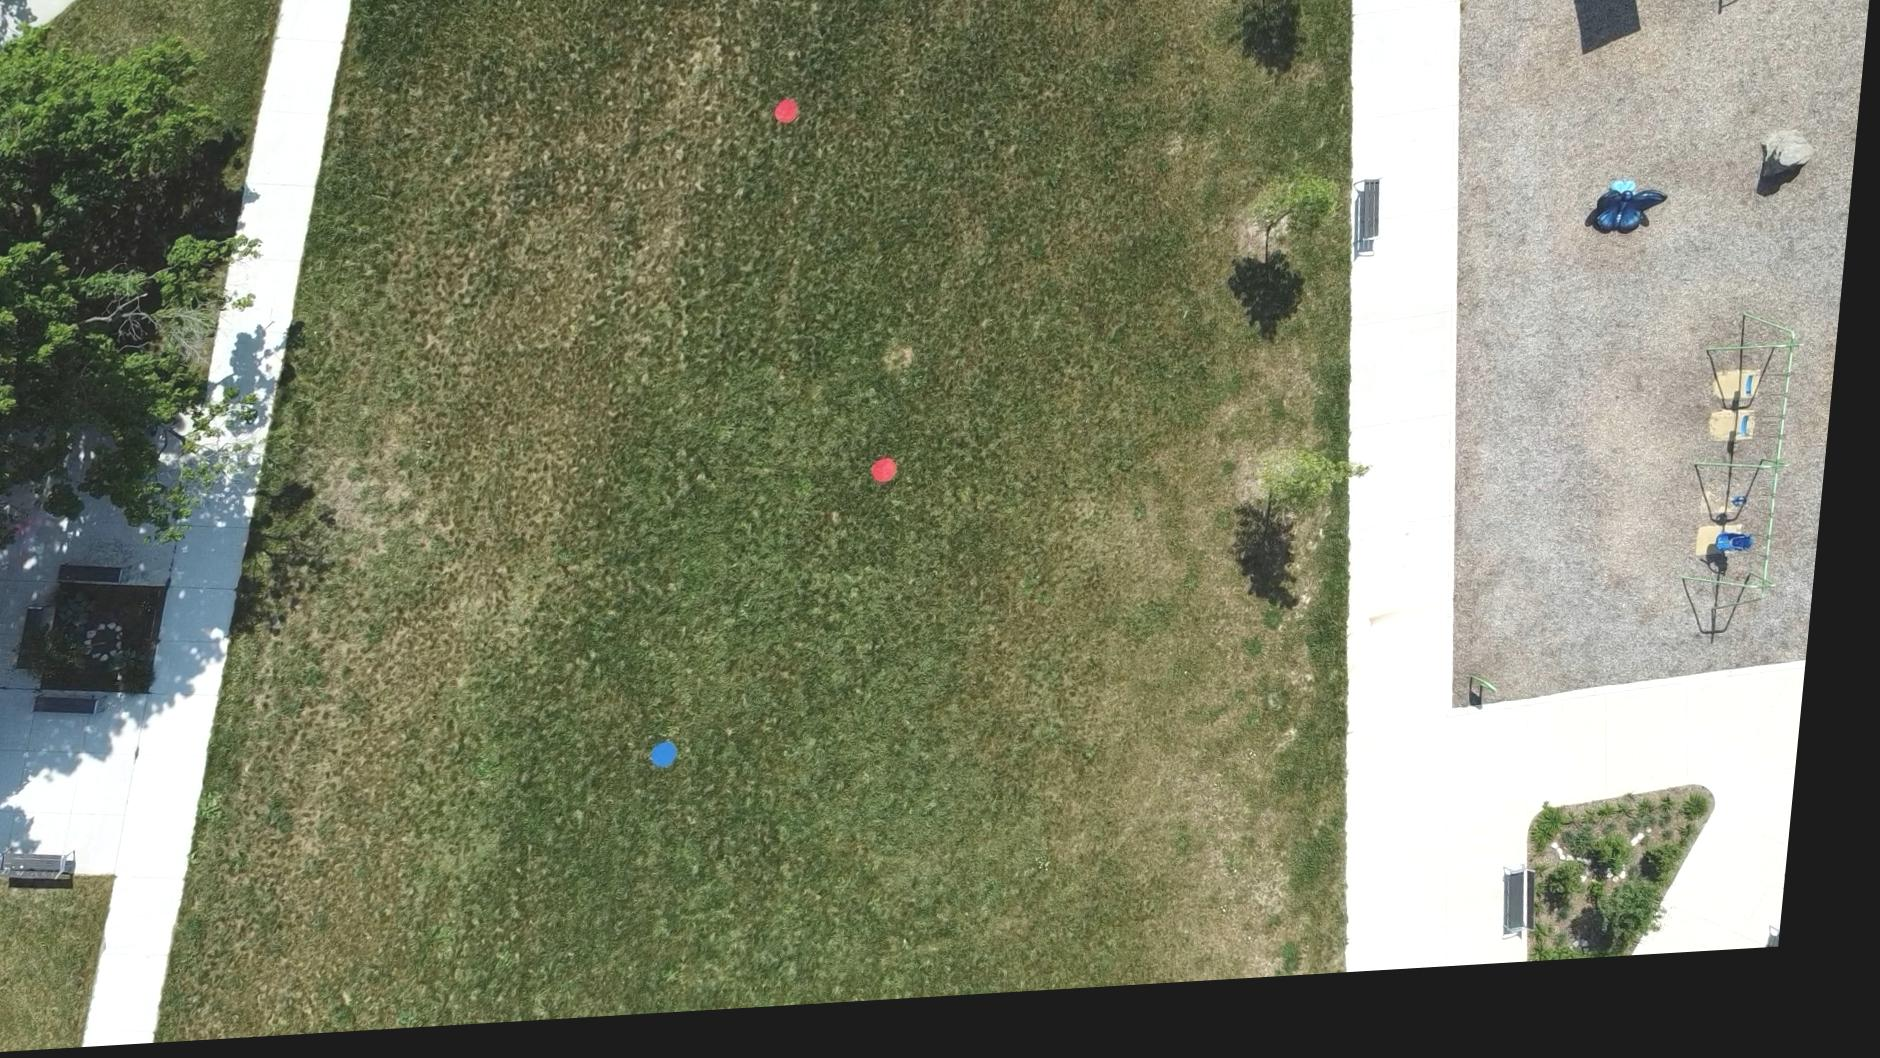Blue: (665, 749, 695, 778)
Red: (879, 468, 910, 496), (776, 107, 804, 134)
